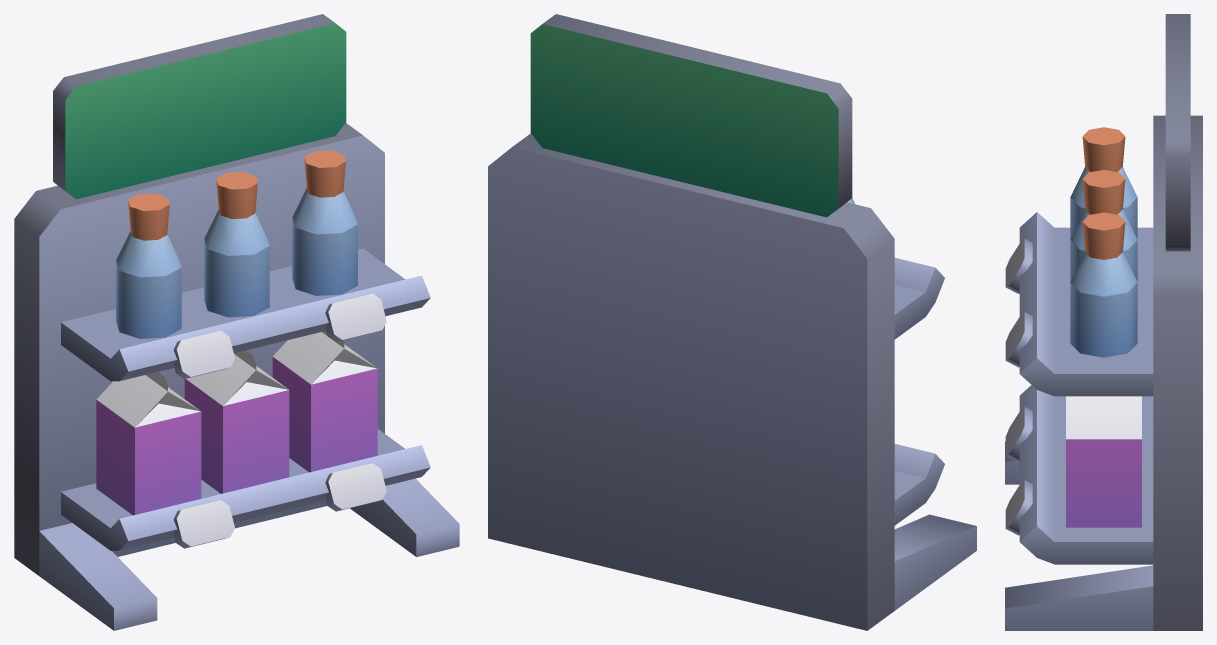
Rendered from shelf-end.obj.
3 views of the same model, side by side, from view 1: azimuth 30°, elevation 25°; view 2: azimuth 150°, elevation 25°; view 3: azimuth 270°, elevation 25° (orthographic). The views are drawn at different scales.
Visible parts, largest first — view 1: shelf-end, carton, bottle; view 2: shelf-end; view 3: shelf-end, bottle, carton.
Part boxes in pixels (left/top/right/bottom): shelf-end: left=14, top=14, right=459, bottom=630; carton: left=96, top=331, right=377, bottom=515; bottle: left=116, top=150, right=357, bottom=338; shelf-end: left=488, top=14, right=976, bottom=630; shelf-end: left=1005, top=14, right=1202, bottom=630; bottle: left=1070, top=127, right=1137, bottom=357; carton: left=1066, top=396, right=1141, bottom=527.
Bounding box in the file's own units: 0.8 × 1.05 × 0.4.
Materials: 1 (1 with a texture image).
